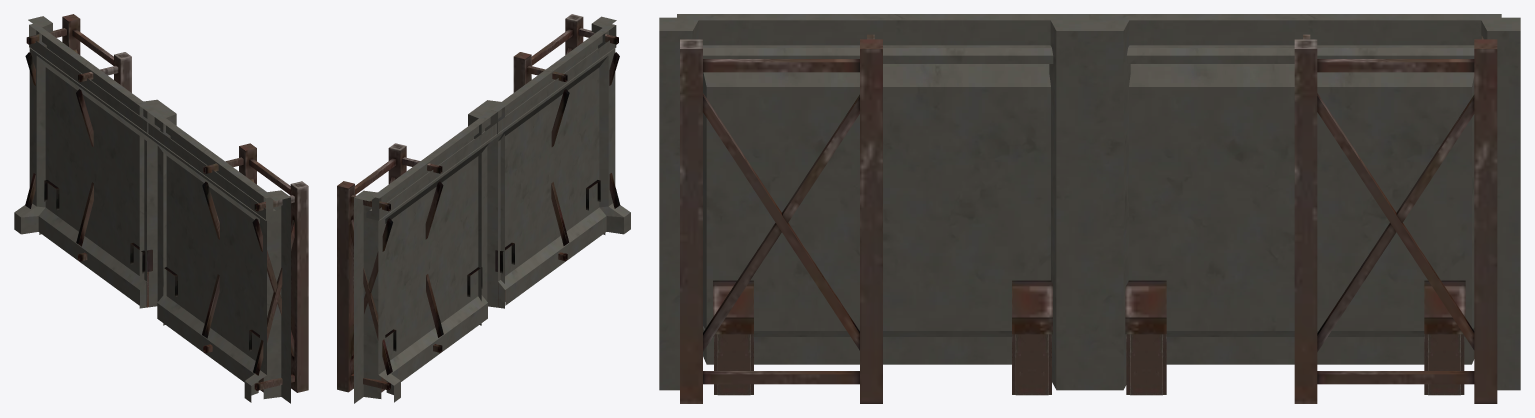
The model's file is fence-gate--2.gltf.
The picture shows the model from 3 angles, left to right: view 1: azimuth 30°, elevation 25°; view 2: azimuth 150°, elevation 25°; view 3: azimuth 270°, elevation 25°; orthographic projection. The views are drawn at different scales.
Parts seen in each view (by area): view 1: Plane.008; view 2: Plane.008; view 3: Plane.008.
Boxes of the visible parts, x1=… form: Plane.008: x1=14, y1=14, x2=308, y2=403; Plane.008: x1=337, y1=14, x2=630, y2=403; Plane.008: x1=659, y1=14, x2=1520, y2=403.
Size of the model in its own units: 0.8788 by 3 by 6.48.
3 materials, 3 textured.
